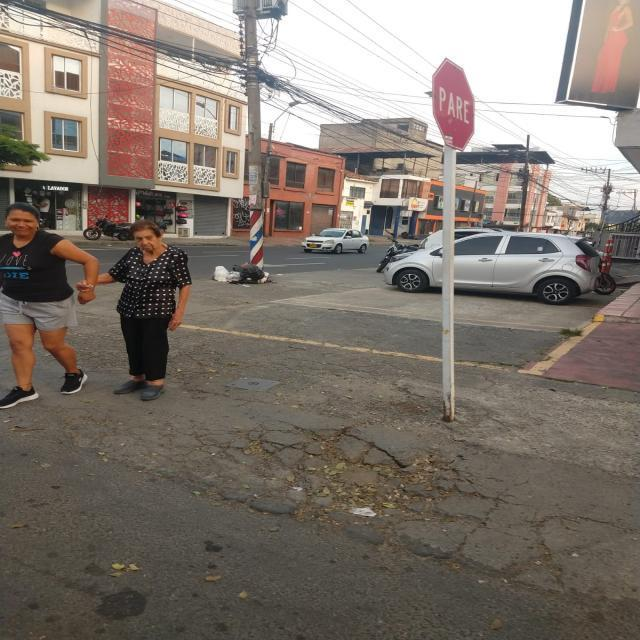Garbage_Bag: (238, 263, 265, 280), (212, 265, 230, 282), (225, 270, 242, 282)
